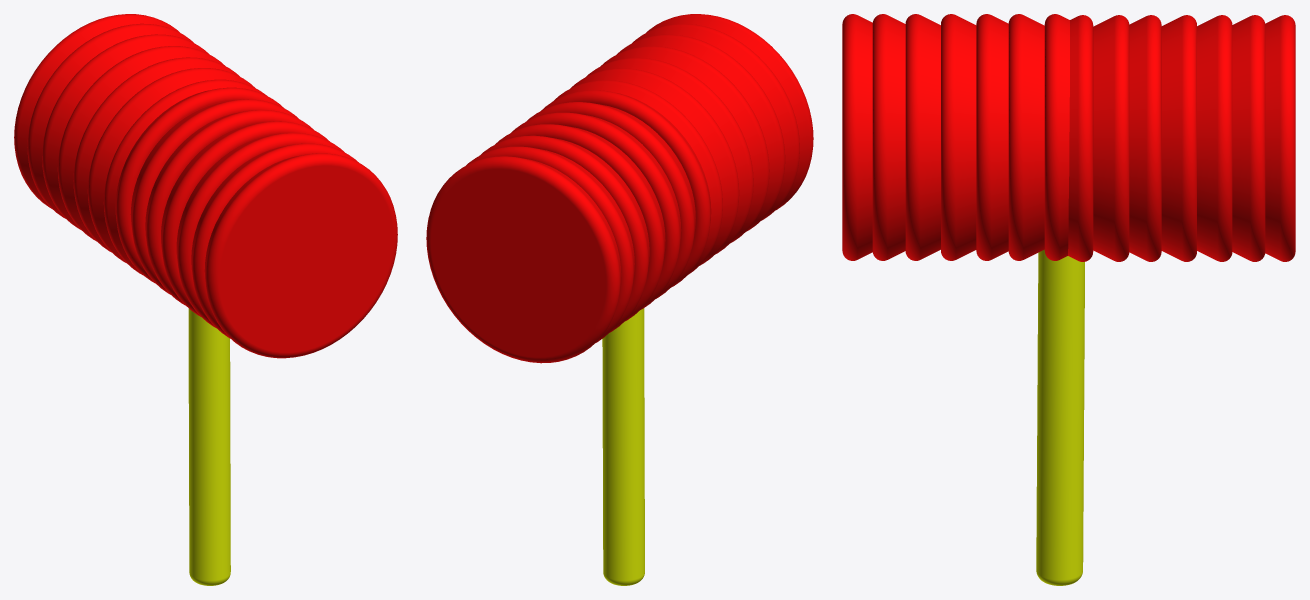
File: toyHammer3.glb
3 renders of one model, left to right at view 1: azimuth 30°, elevation 25°; view 2: azimuth 150°, elevation 25°; view 3: azimuth 270°, elevation 25°, orthographic. The views are drawn at different scales.
Visible parts, largest first — view 1: Merged Objects 7, Merged Objects 8, Cylinder 1; view 2: Merged Objects 8, Merged Objects 7, Cylinder 1; view 3: Merged Objects 7, Merged Objects 8, Cylinder 1.
Part boxes in pixels (box(x1,y1,x2,y2)): Merged Objects 7: box(115, 87, 397, 358); Merged Objects 8: box(14, 14, 266, 275); Cylinder 1: box(188, 308, 230, 585); Merged Objects 8: box(426, 90, 711, 363); Merged Objects 7: box(554, 14, 813, 274); Cylinder 1: box(602, 308, 644, 585); Merged Objects 7: box(842, 14, 1069, 260); Merged Objects 8: box(1068, 15, 1295, 261); Cylinder 1: box(1036, 249, 1084, 585).
Size of the model in its own units: 2.09 by 5.17 by 3.83.
